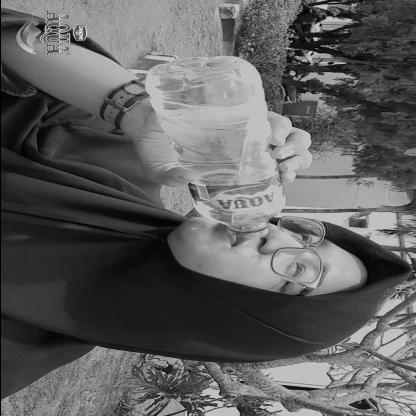plastic_bottles: (140, 45, 296, 247)
